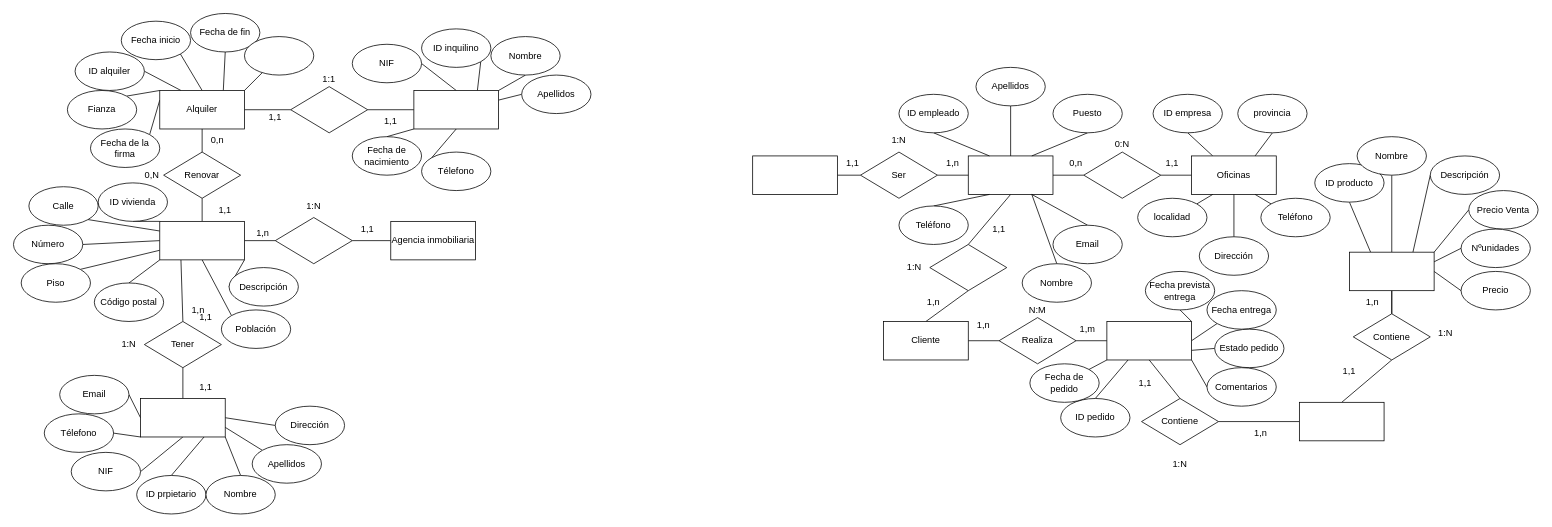
Image size: 1552x527. Some labels were removed from this diagram. The centre of each missing label's shape, as x and y in pixels:
"Alquilar" goes at point 329,109.
"Asociar" goes at point 968,267.
"Empleado" goes at point 1010,174.
"Gestionar" goes at point 313,240.
"Importe mensual" goes at point 279,55.
"Inquilino" goes at point 456,109.
"Jefe" goes at point 794,174.
"Líneas de pedido" goes at point 1341,421.
"Pedidos" goes at point 1149,340.
"Producto" goes at point 1391,271.
"Propietario" goes at point 182,417.
"Trabajar" goes at point 1122,174.
"Vivienda" goes at point 201,240.
